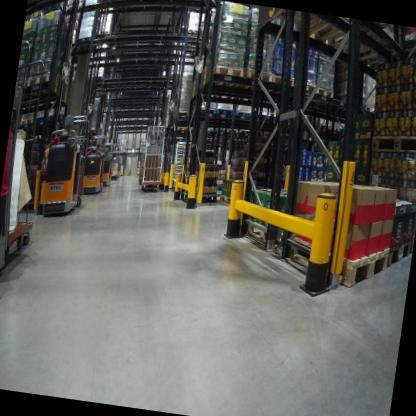pallet: (277, 227, 389, 299), (262, 7, 344, 45), (323, 15, 386, 61), (237, 208, 289, 257), (204, 57, 247, 103), (237, 64, 273, 107), (369, 126, 416, 156), (25, 67, 61, 104), (384, 235, 413, 278), (180, 27, 201, 56), (217, 188, 245, 209), (270, 71, 299, 91), (14, 76, 36, 102), (73, 31, 92, 58), (314, 81, 336, 101), (297, 79, 318, 96), (233, 106, 256, 120), (65, 37, 81, 57), (215, 103, 234, 119), (18, 113, 34, 131), (197, 103, 217, 117), (238, 126, 259, 137), (95, 28, 111, 42), (365, 99, 378, 114), (176, 122, 192, 134), (225, 125, 239, 137), (32, 114, 46, 126), (28, 0, 41, 12), (201, 123, 215, 134), (213, 124, 226, 134), (32, 133, 42, 144), (258, 130, 272, 137)
pallet_truck: (0, 36, 65, 301), (32, 100, 99, 226), (72, 128, 111, 206), (98, 133, 117, 190)
